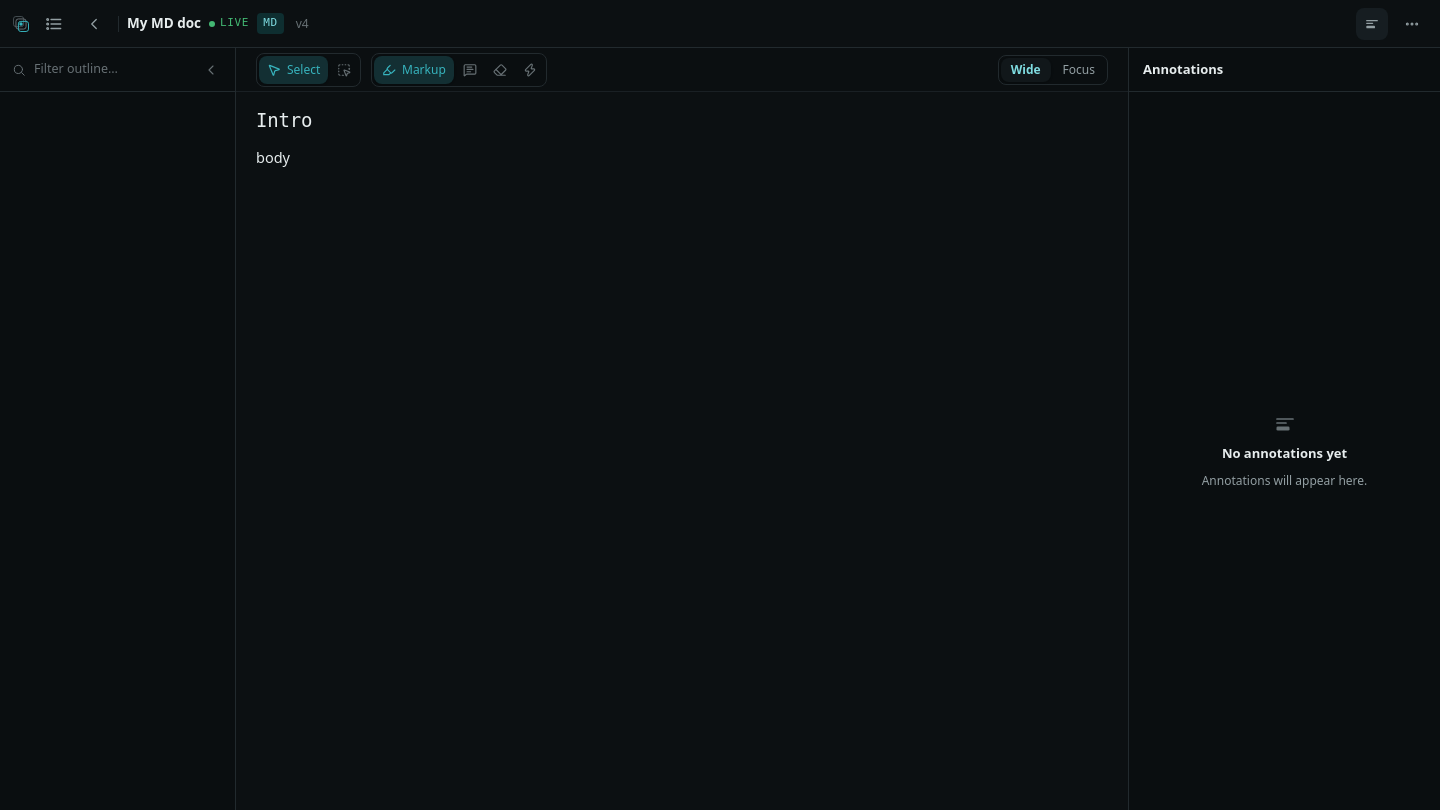
Test: ViewerScreen S-001 › AS-012: the top bar shows doc identity and the comments toggle shows/hides the rail
Check: the element with test id "markdown-view" is shown, box [256,109,312,166]
Check: the text with test id "vt-title" reads "My MD doc", box [127,14,201,32]
Click → rail unmounts (hidden), toggle reads not-pressed.
Click the button with test id "vt-comments-toggle" at (1372, 24), box [1356,8,1388,40]
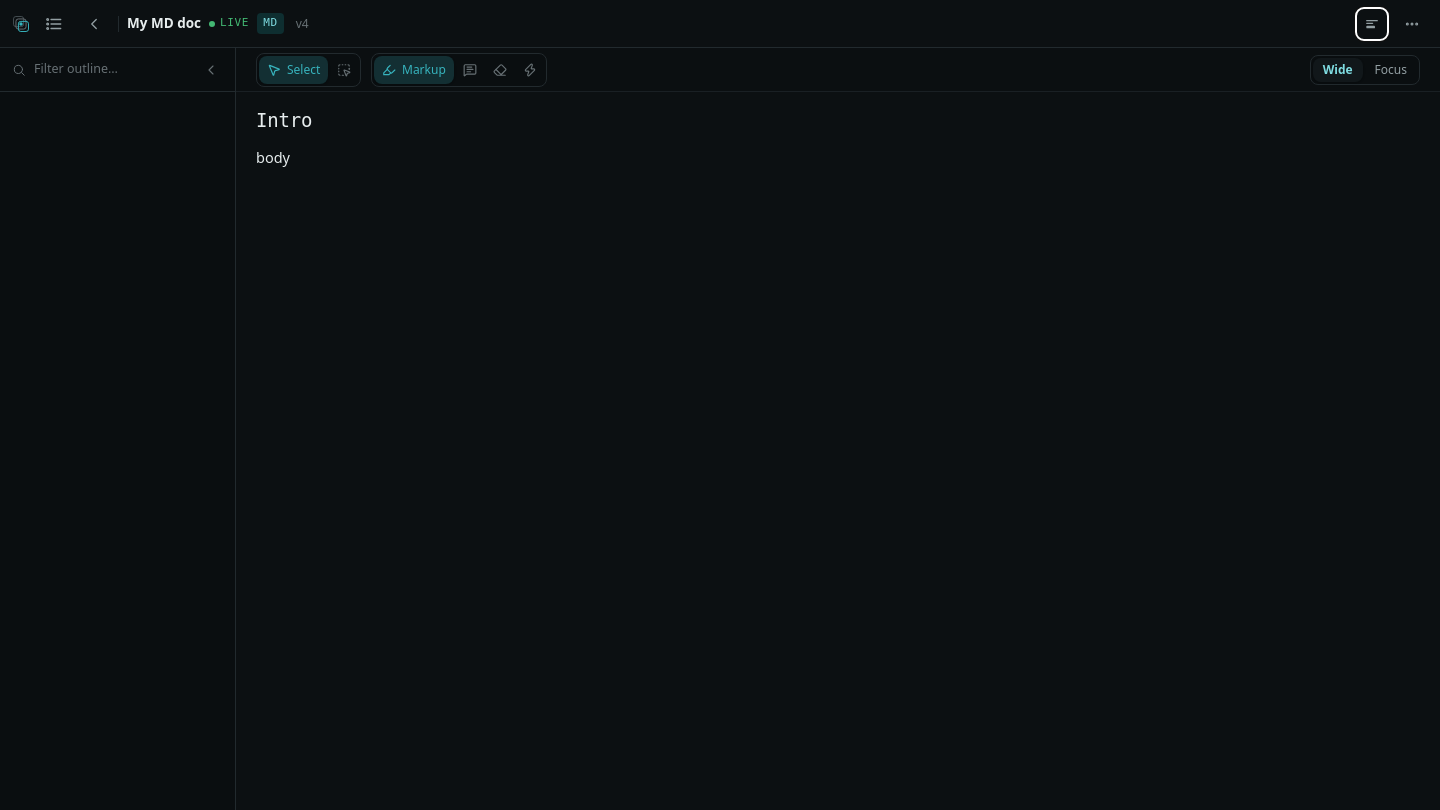
Check: the element with test id "viewer-rail-slot" is gone
Click again → rail back.
Click the button with test id "vt-comments-toggle" at (1372, 24), box [1356,8,1388,40]
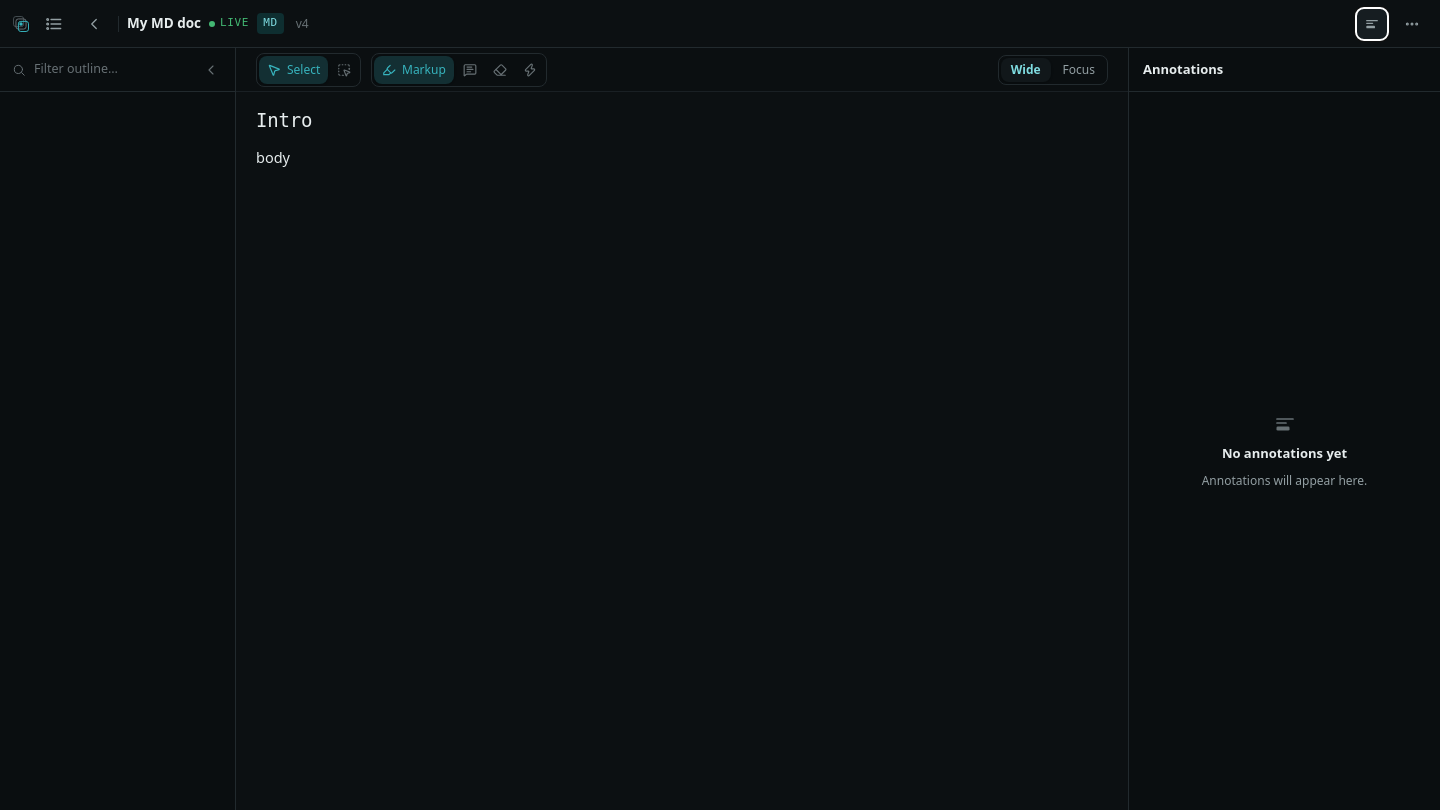
Check: the element with test id "viewer-rail-slot" is shown, box [1128,48,1439,809]
